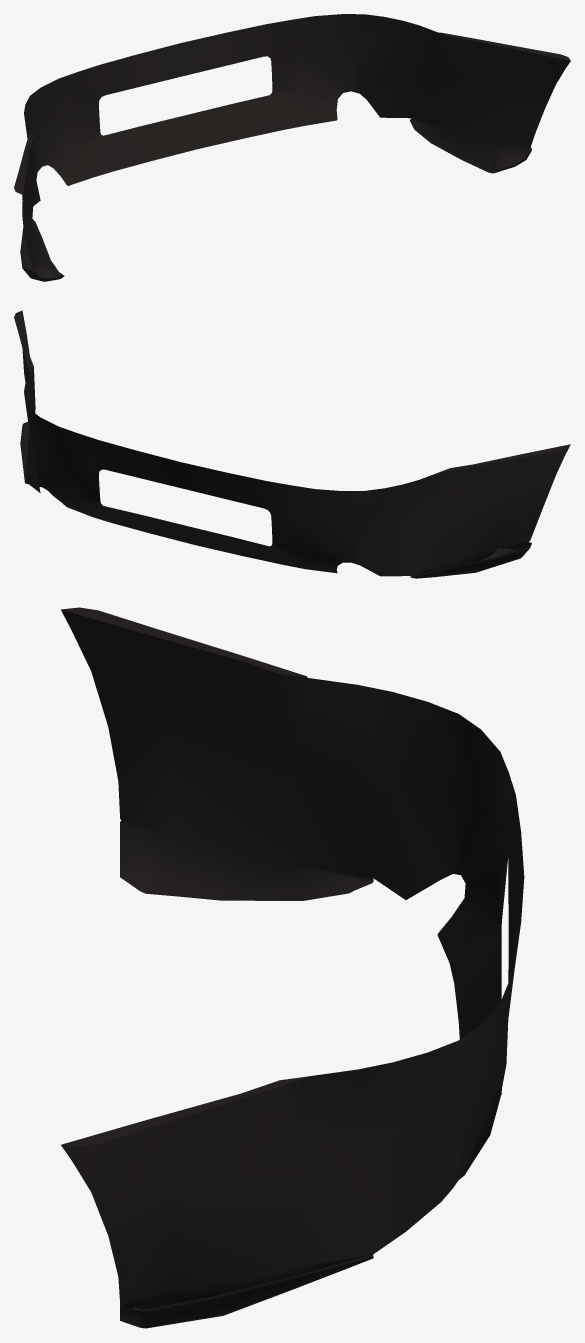
The model's file is RWB_993_RB_01_Trim.fbx.
The picture shows the model from 3 angles, top to bottom: view 1: azimuth 30°, elevation 25°; view 2: azimuth 150°, elevation 25°; view 3: azimuth 270°, elevation 25°; orthographic projection. The views are drawn at different scales.
Parts seen in each view (by area): view 1: RWB_993_RB_01_Trim; view 2: RWB_993_RB_01_Trim; view 3: RWB_993_RB_01_Trim.
Boxes of the visible parts, box(x1,y1,x2,y2) form: RWB_993_RB_01_Trim: box(14, 14, 570, 281); RWB_993_RB_01_Trim: box(14, 310, 570, 578); RWB_993_RB_01_Trim: box(61, 607, 524, 1328).
Bounding box in the file's own units: 195 × 38.3 × 70.81.
